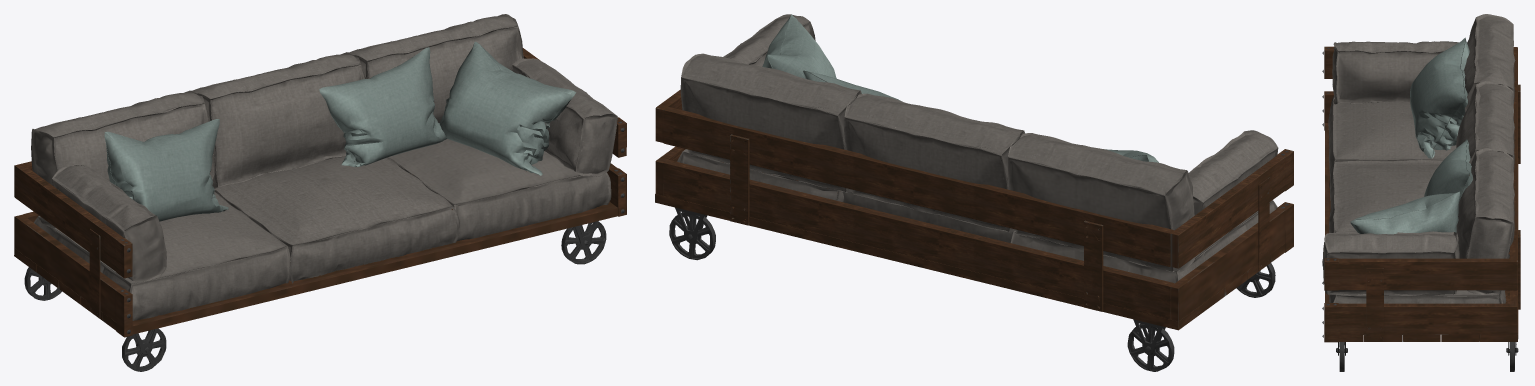
The model's file is raw_model.obj.
The picture shows the model from 3 angles, left to right: view 1: azimuth 30°, elevation 25°; view 2: azimuth 150°, elevation 25°; view 3: azimuth 270°, elevation 25°; orthographic projection. The views are drawn at different scales.
Parts seen in each view (by area): view 1: solid_003, solid_002, solid_001, solid_004; view 2: solid_001, solid_003, solid_004, solid_002; view 3: solid_003, solid_001, solid_002, solid_004.
Boxes of the visible parts, x1,y1,x2,y2 form: solid_003: (31, 14, 617, 320); solid_002: (104, 41, 576, 221); solid_001: (14, 48, 626, 337); solid_004: (24, 119, 624, 371); solid_001: (655, 89, 1293, 330); solid_003: (677, 14, 1278, 283); solid_004: (669, 150, 1289, 371); solid_002: (762, 14, 1158, 162); solid_003: (1322, 14, 1515, 303); solid_001: (1324, 46, 1520, 342); solid_002: (1350, 37, 1472, 234); solid_004: (1322, 47, 1518, 371).
Bounding box in the file's own units: 2.54 × 0.8831 × 0.9845.
1 material, 1 textured.
